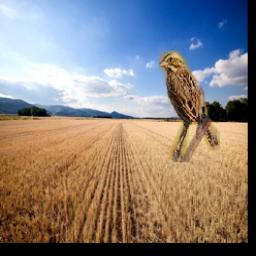Sparrow: (160, 51, 221, 163)
